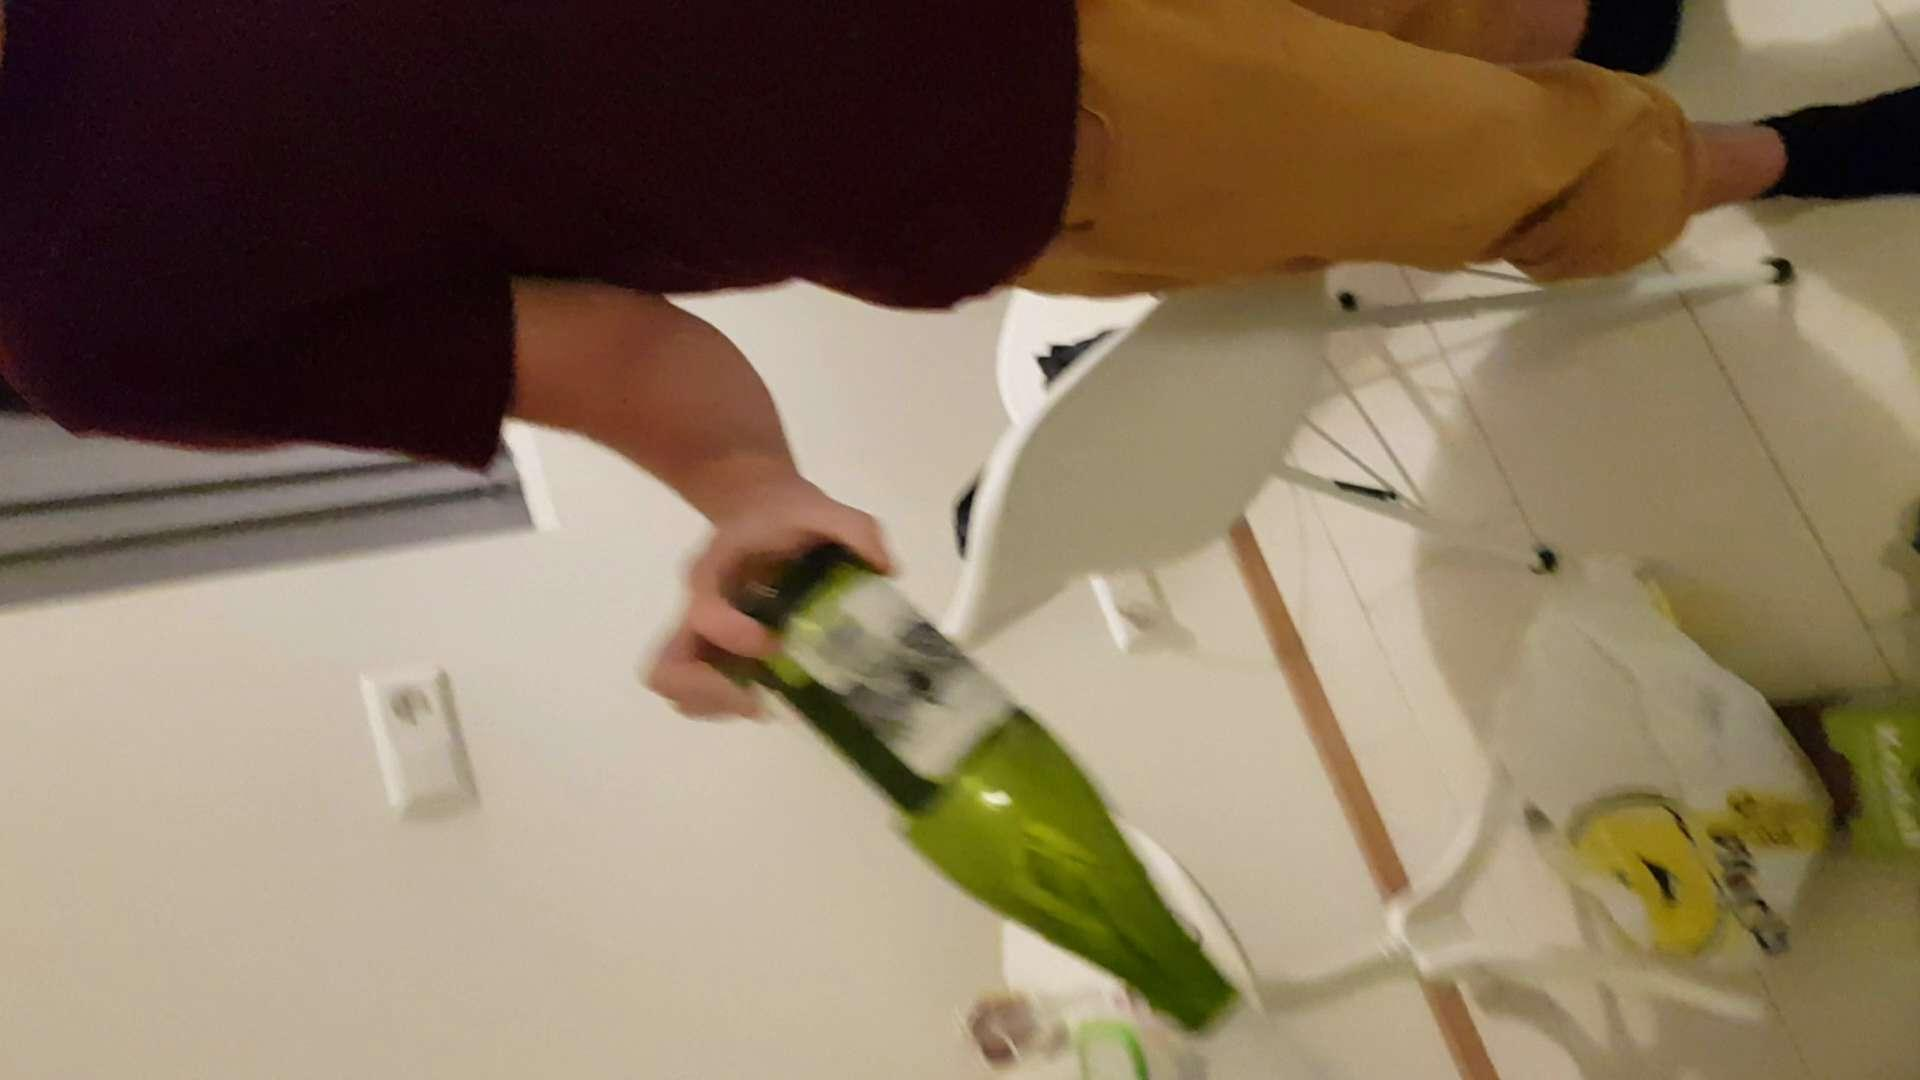Bottle: (727, 527, 1284, 1055)
